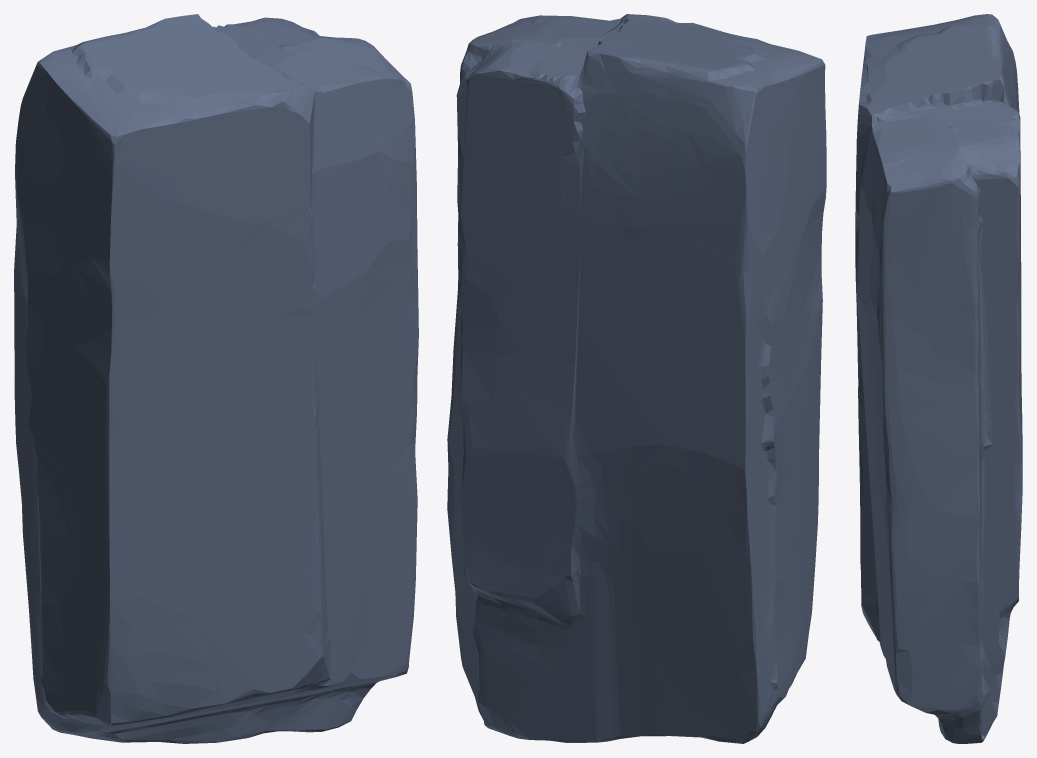
3 renders of one model, left to right at view 1: azimuth 30°, elevation 25°; view 2: azimuth 150°, elevation 25°; view 3: azimuth 270°, elevation 25°, orthographic. The views are drawn at different scales.
Parts seen in each view (by area): view 1: SM_GF_Cliff_01_LOD0; view 2: SM_GF_Cliff_01_LOD0; view 3: SM_GF_Cliff_01_LOD0.
Boxes of the visible parts, x1,y1,x2,y2 form: SM_GF_Cliff_01_LOD0: [14, 14, 418, 743]; SM_GF_Cliff_01_LOD0: [447, 14, 826, 743]; SM_GF_Cliff_01_LOD0: [855, 14, 1022, 743].
Size of the model in its own units: 21.79 by 45.09 by 11.02.
